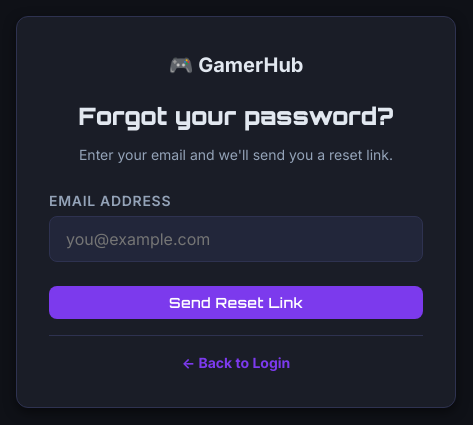
Test: ForgotPasswordPage — API interaction › disables the submit button while loading
The width and height of the screenshot is (473, 425).
Type "user@example.com" into the field labelled "Email address" at (236, 239), box [49,216,423,262]
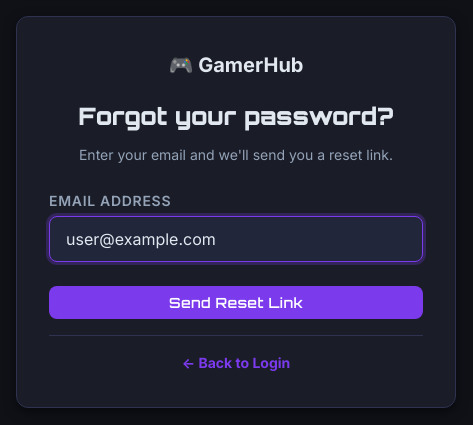
Click the button "Send Reset Link" at (236, 303), box [49,286,423,319]
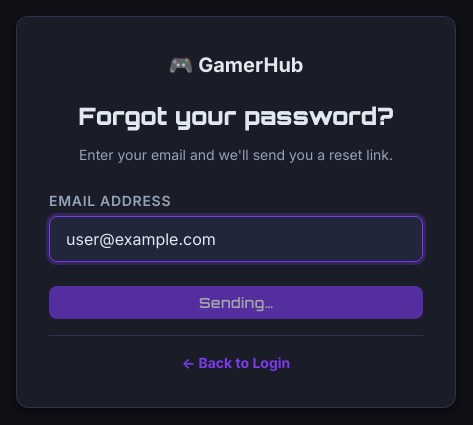
Result: the button "Sending…" is disabled at [49,286,423,319]
